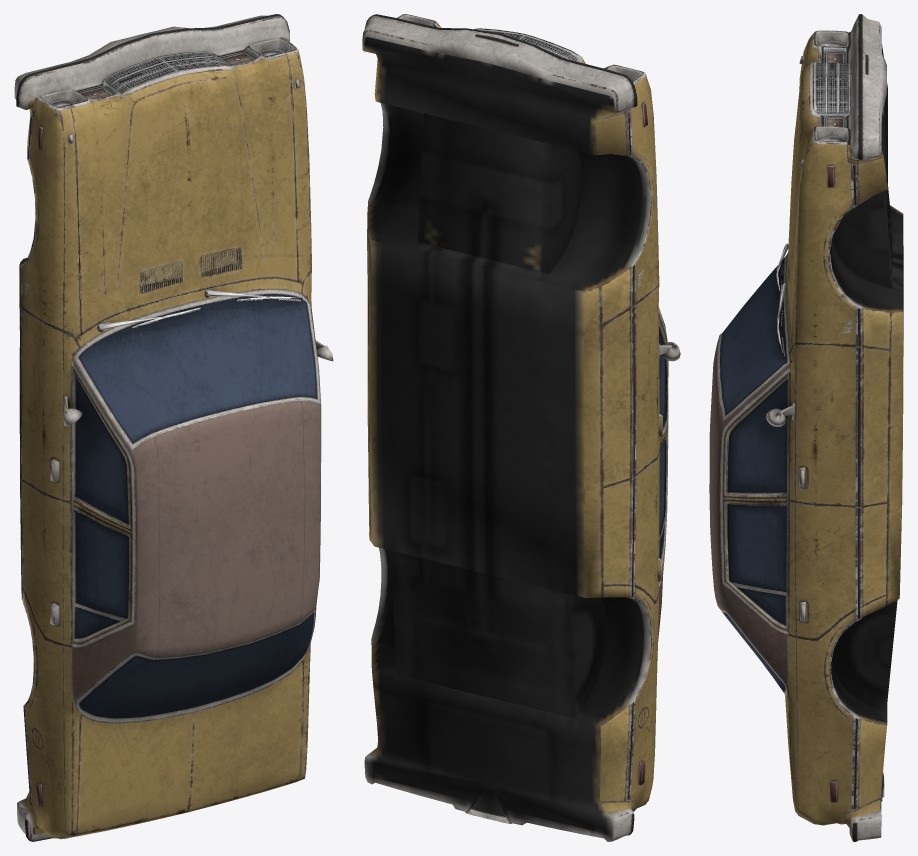
The model's file is Plimouth.obj.
3 renders of one model, left to right at view 1: azimuth 30°, elevation 25°; view 2: azimuth 150°, elevation 25°; view 3: azimuth 270°, elevation 25°, orthographic. The views are drawn at different scales.
Parts seen in each view (by area): view 1: Object002_Сіть.012; view 2: Object002_Сіть.012; view 3: Object002_Сіть.012.
Part boxes in pixels (x1=…): Object002_Сіть.012: x1=14, y1=14, x2=333, y2=841; Object002_Сіть.012: x1=362, y1=14, x2=680, y2=841; Object002_Сіть.012: x1=709, y1=14, x2=903, y2=841.
Bounding box in the file's own units: 1.89 × 5.14 × 1.24.
Materials: 1 (1 with a texture image).
